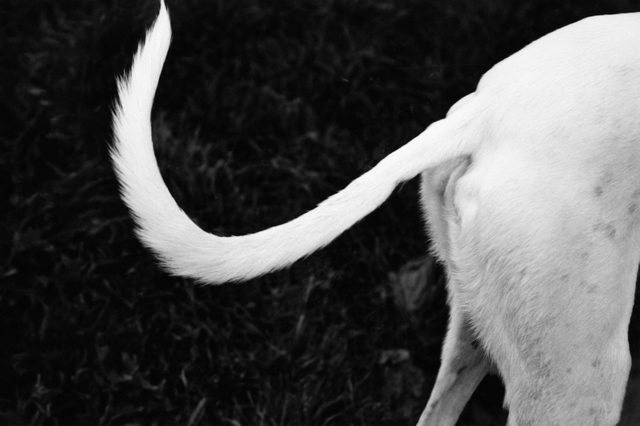tail: (101, 9, 475, 292)
